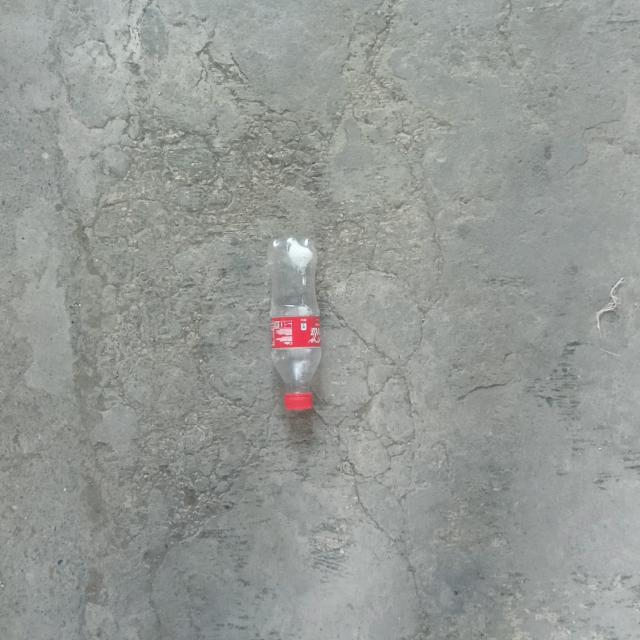Bottle: (267, 238, 321, 411)
